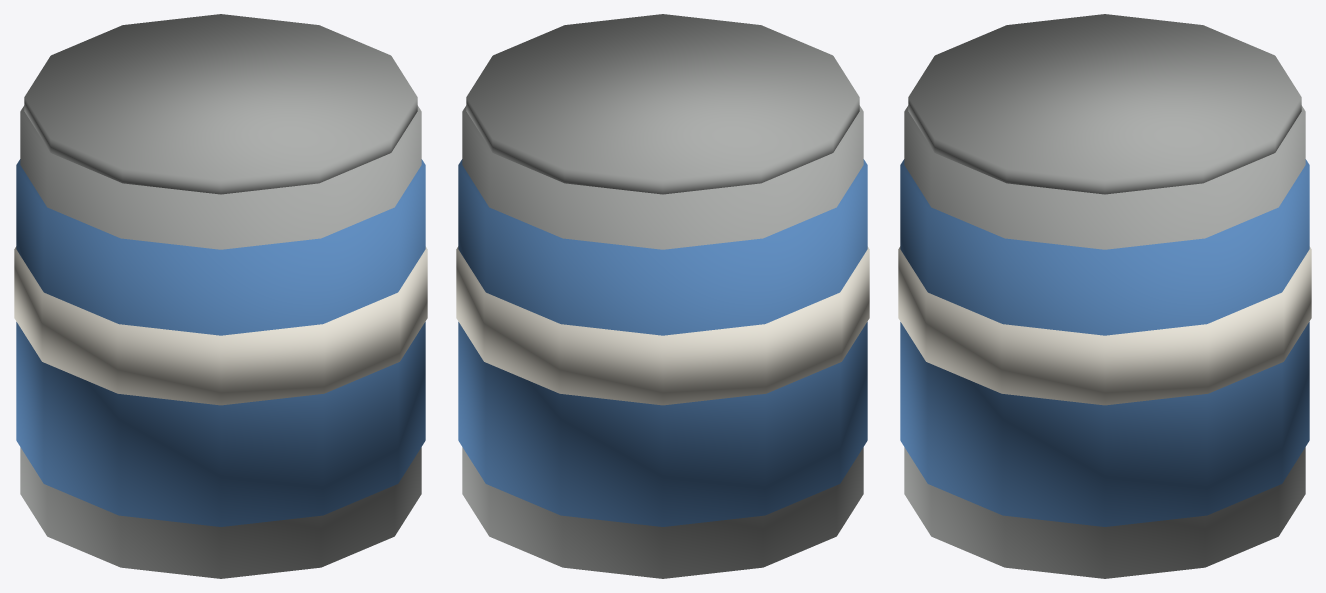
The model's file is sgushenka.glb.
3 renders of one model, left to right at view 1: azimuth 30°, elevation 25°; view 2: azimuth 150°, elevation 25°; view 3: azimuth 270°, elevation 25°, orthographic.
Visible parts, largest first — view 1: Item; view 2: Item; view 3: Item.
Part boxes in pixels (x1=…): Item: x1=14, y1=14, x2=427, y2=578; Item: x1=456, y1=14, x2=869, y2=578; Item: x1=898, y1=14, x2=1311, y2=578.
Size of the model in its own units: 0.0783 by 0.083 by 0.0783.
